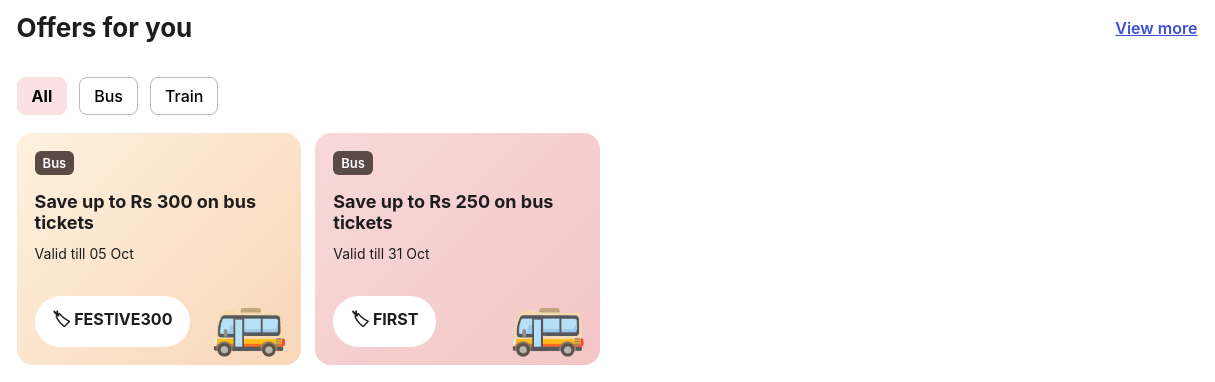
Offers › shows an empty state when a tab has no matching offers, and keeps the tabs clickable
Click the tab "Train" at coordinates (184, 96), box [150,77,218,115]
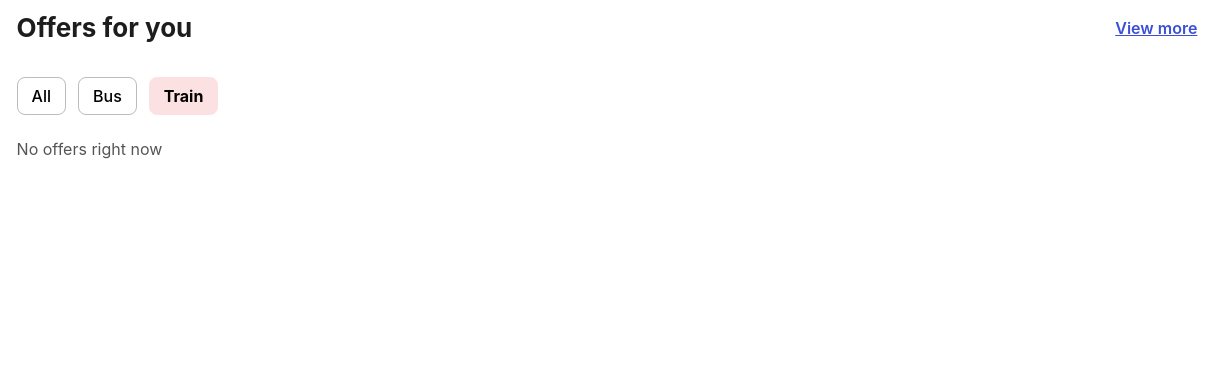
Expected: the text "No offers right now" is shown, [17,139,162,159]
Click the tab "Bus" at coordinates (107, 96), box [78,77,137,115]
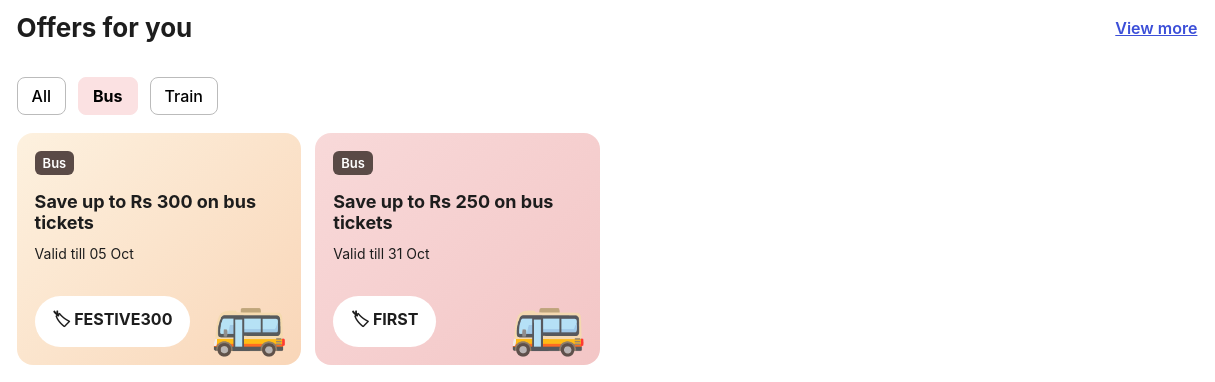
Expected: the button "🏷 FESTIVE300" is shown, [35,296,190,347]
